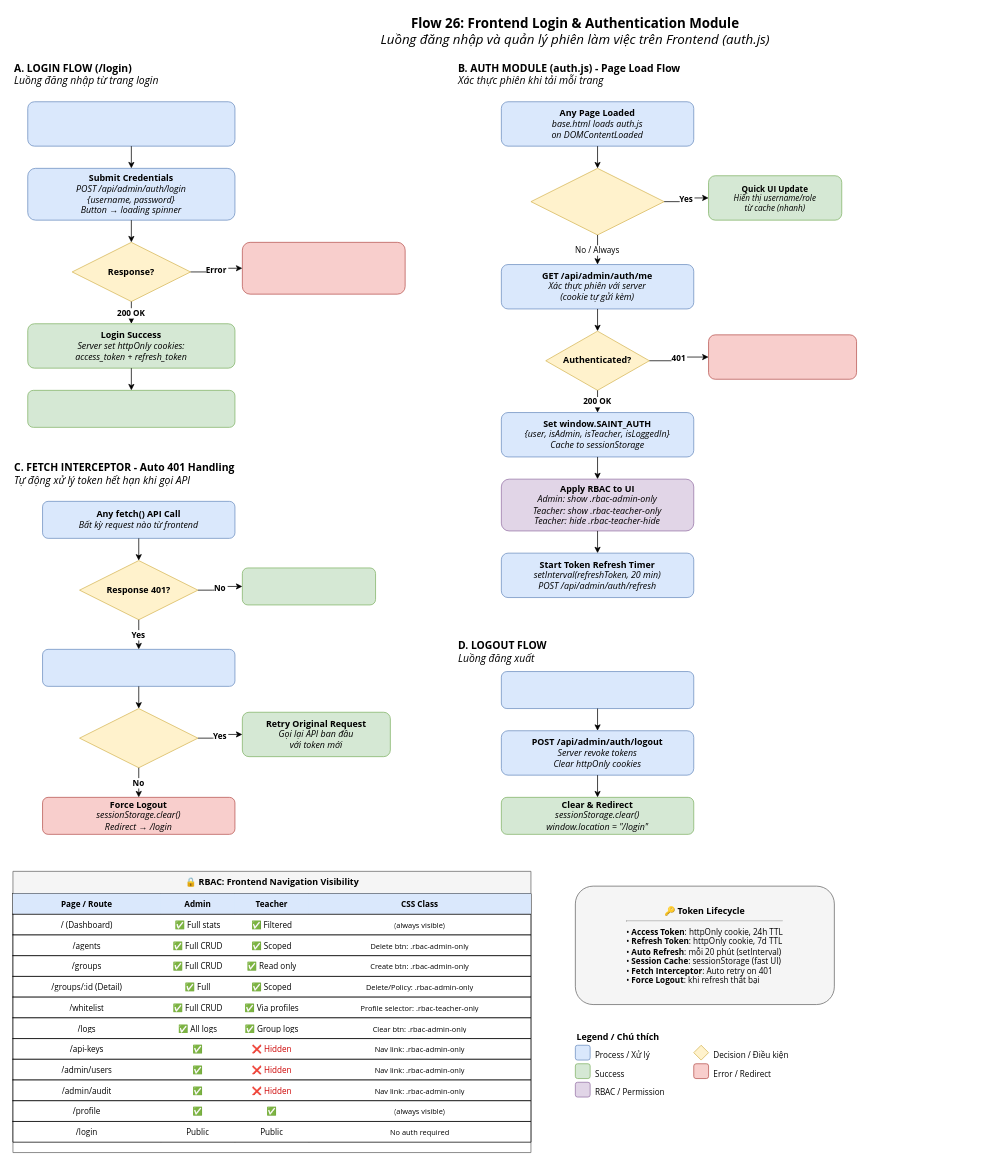
Some shapes in this 995 by 1166 pixel diagram are drawn without their labels. Here are the shapes that lost their labels. From the top down, the centre of each, then its label:
(x=131, y=123): Login Page Loaded /login - Username + Password form Auto-focus on username field
(x=597, y=201): sessionStorage cache? Kiểm tra user data đã lưu
(x=323, y=268): Show Error Message 401: Sai mật khẩu 423: Tài khoản bị khóa Hide loading spinner
(x=782, y=356): Redirect to /login Clear sessionStorage window.location = "/login"
(x=131, y=408): Redirect to Dashboard window.location.href = "/"
(x=309, y=586): Return Response Trả kết quả bình thường
(x=138, y=667): POST /api/admin/auth/refresh Thử refresh token tự động
(x=597, y=690): User clicks Logout Navbar dropdown → Logout button
(x=138, y=738): Refresh OK?
